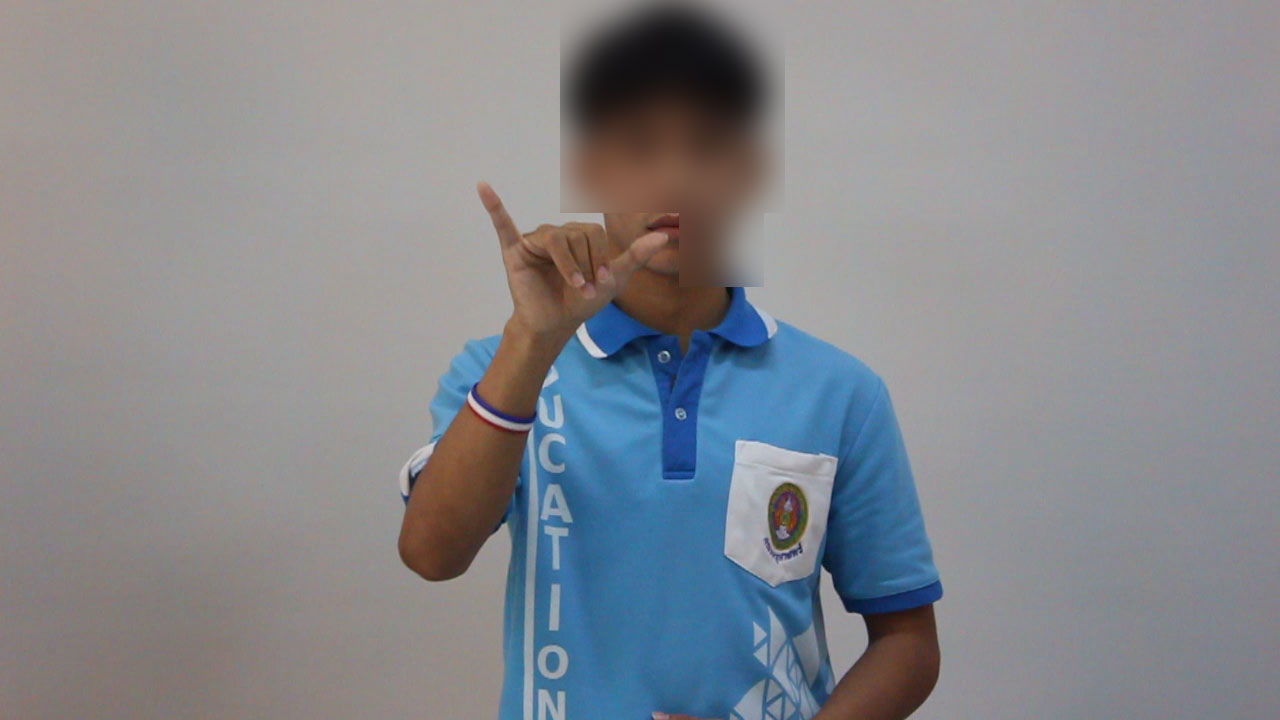yor: (464, 171, 678, 353)
